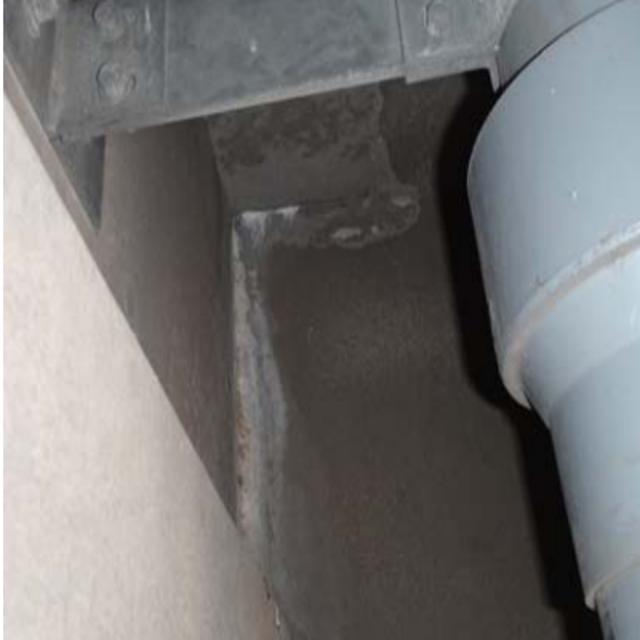freelime: (223, 224, 298, 543)
